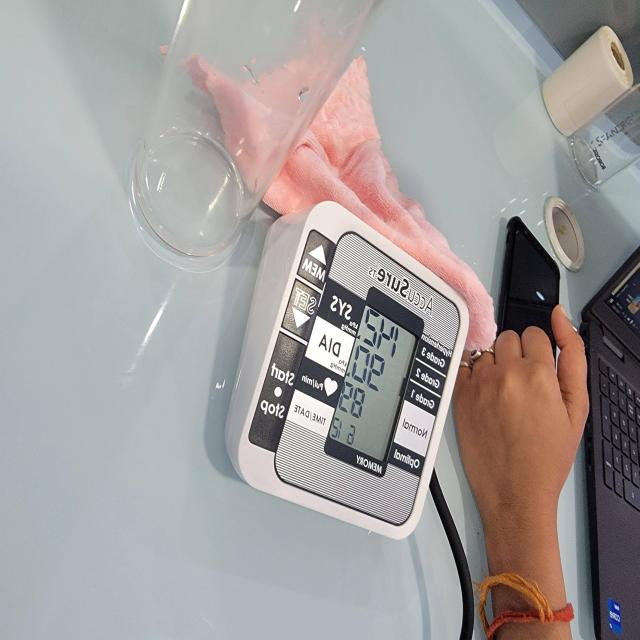bp: (216, 203, 469, 543)
